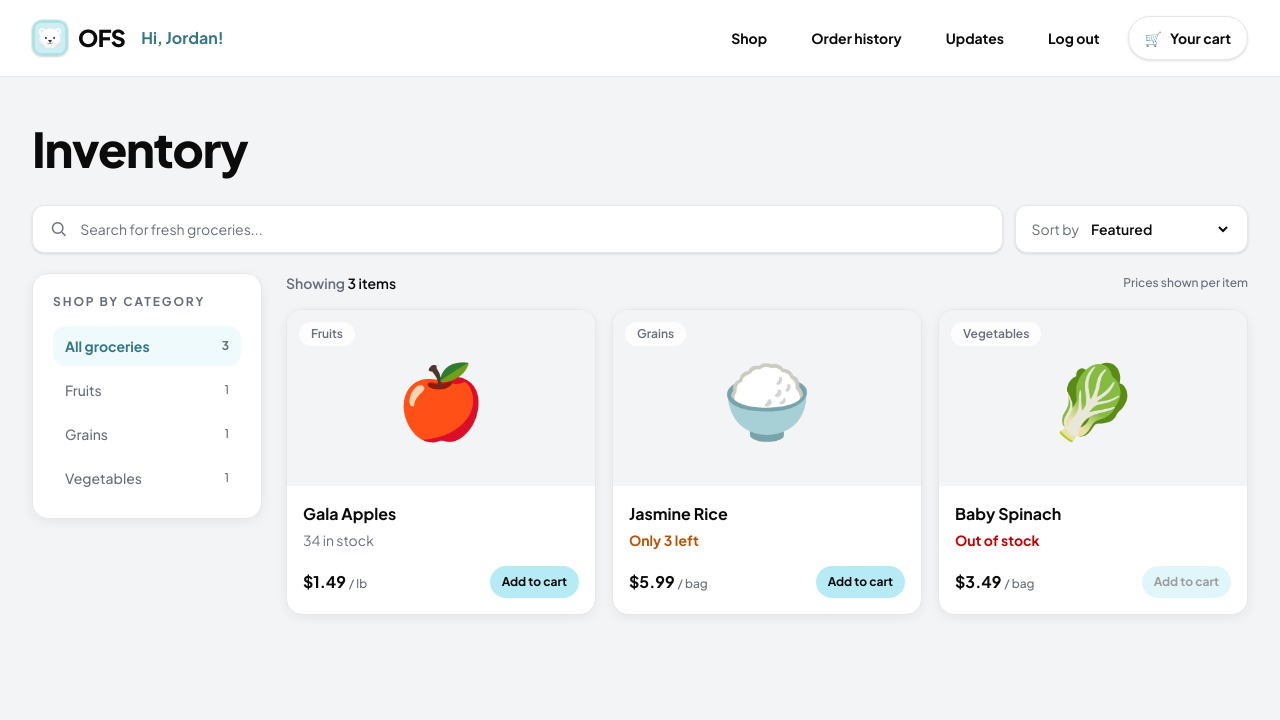
Scenario: customer product view › filters by category and search, and sorts by price
Expected: the heading "Gala Apples" is shown, [303,503,396,524]
Click the button "Grains 1".
click(147, 434)  # box [53,414,241,454]
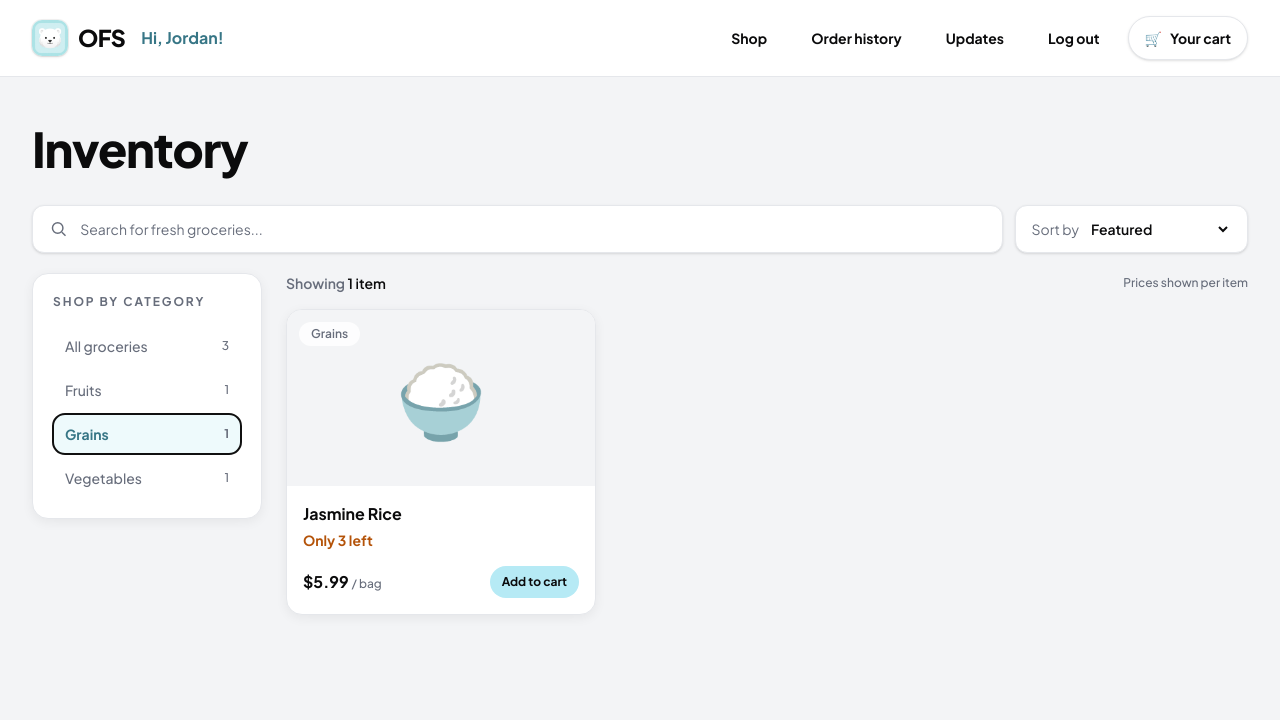
Result: the headings read "Jasmine Rice", in this order at [303,503,402,524]
Click the button "All groceries 3".
click(147, 346)  # box [53,326,241,366]
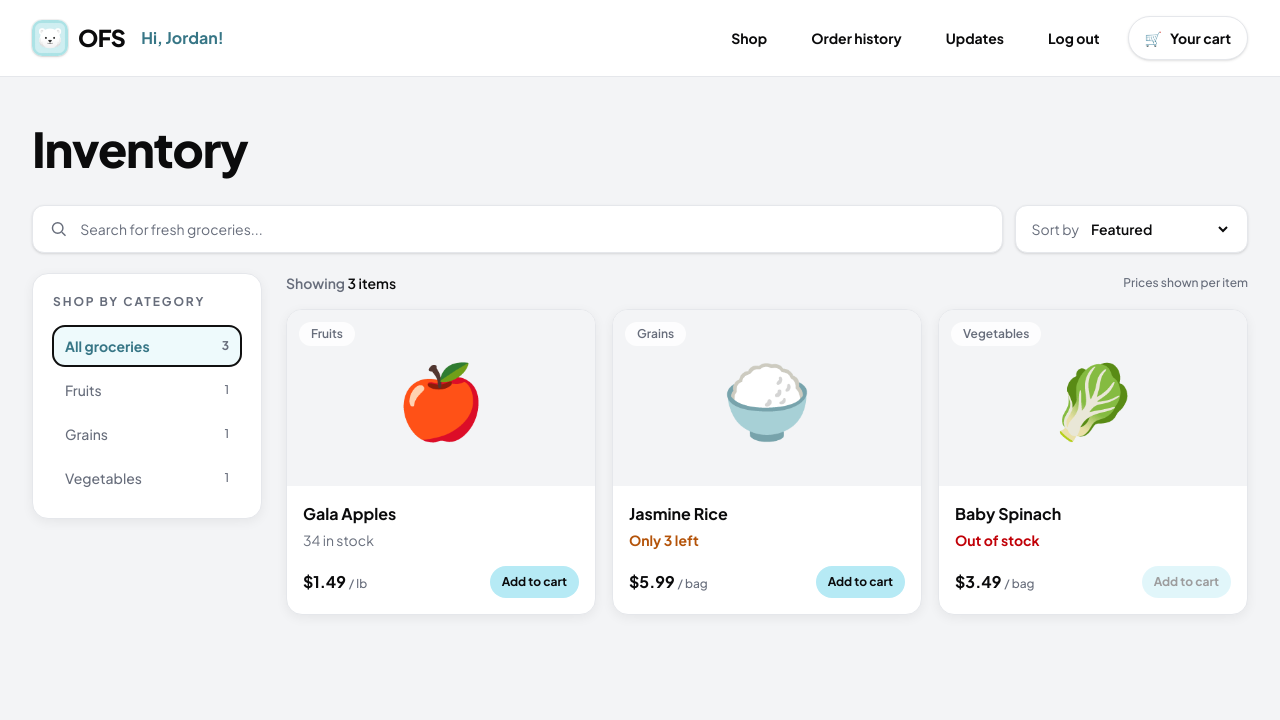
Type "spinach" into the search field named "Search groceries".
click(533, 229); type("spinach")  # box [80,219,986,239]
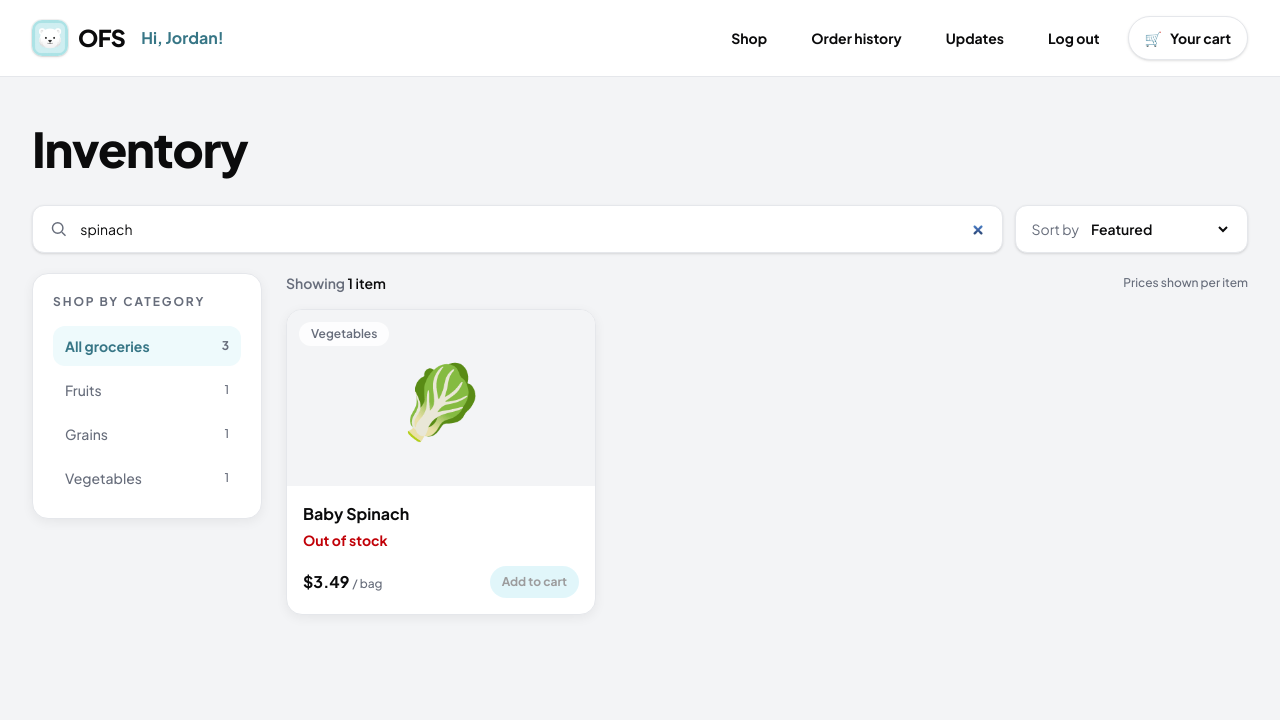
Result: the headings read "Baby Spinach", in this order at [303,503,409,524]
Clear the search field named "Search groceries" at (533,229), box [80,219,986,239]
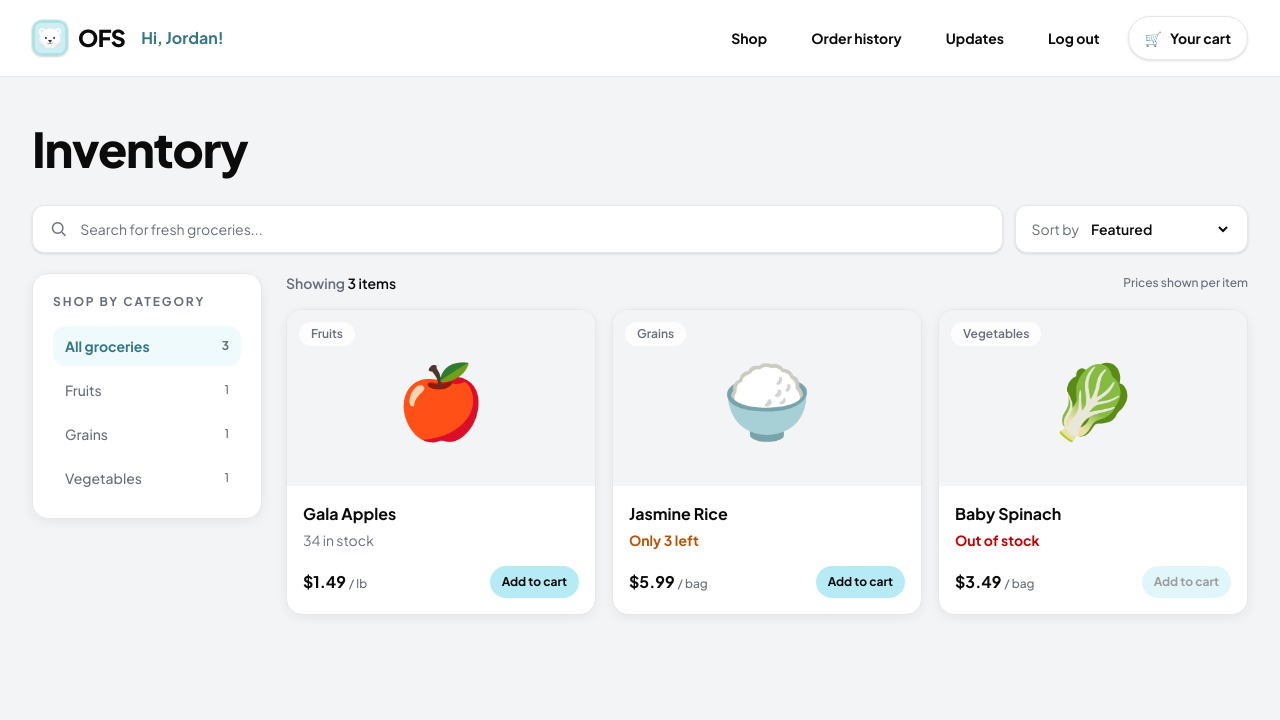
Select "Price: high to low" in the dropdown named "Sort products" at (1159,229), box [1087,219,1231,239]
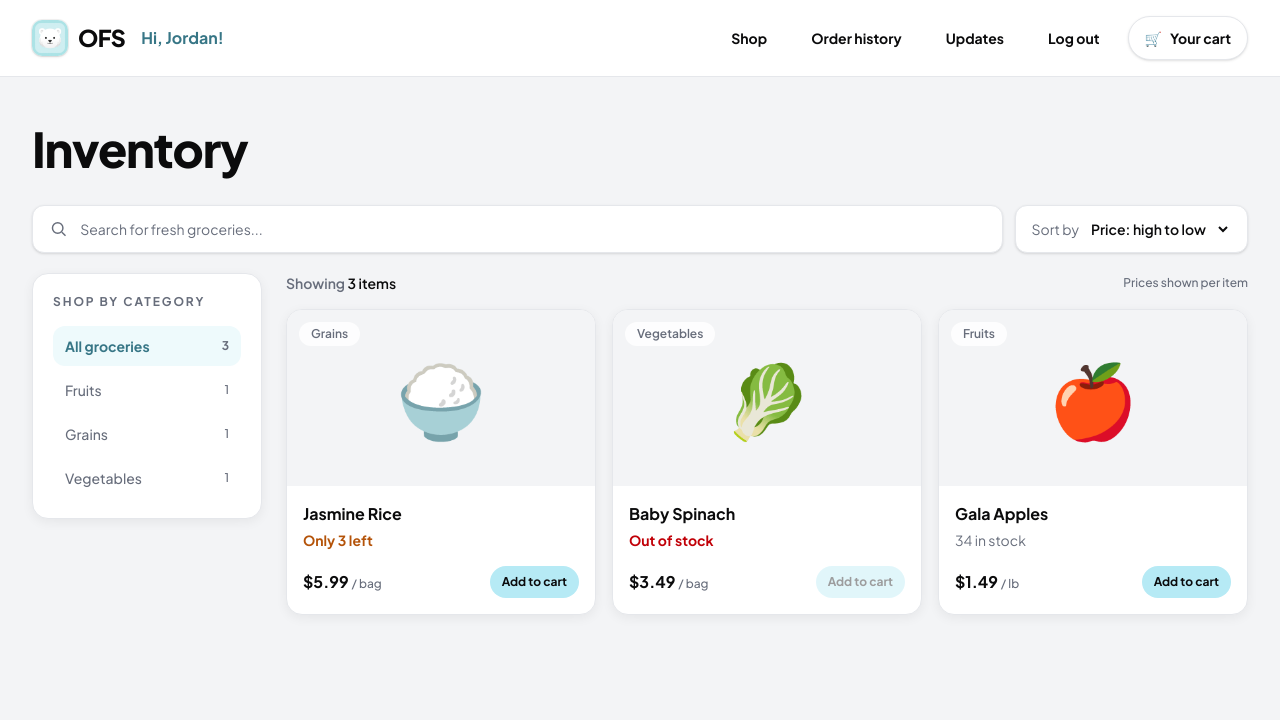
Result: the headings read "Jasmine Rice", "Baby Spinach", "Gala Apples", in this order at [303,503,402,524]; [629,503,735,524]; [955,503,1048,524]
Type "chocolate" into the search field named "Search groceries".
click(533, 229); type("chocolate")  # box [80,219,986,239]
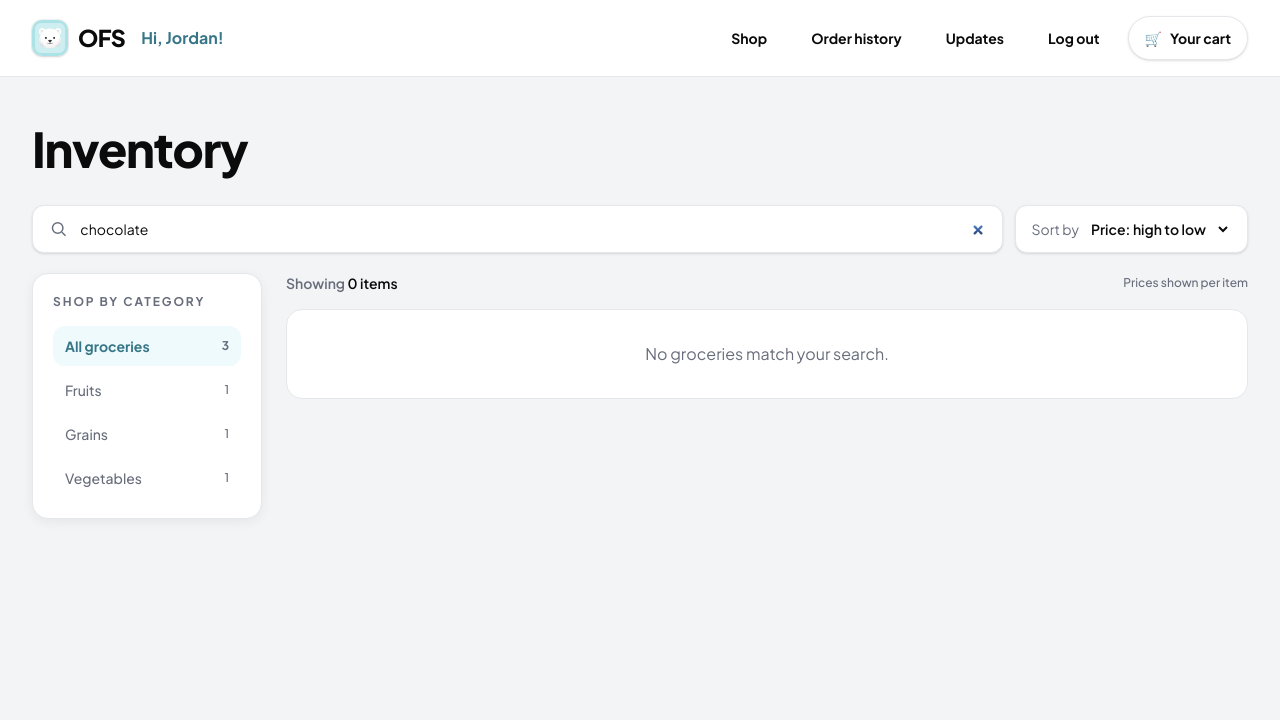
Result: the text "No groceries match your search." is shown at [286,309,1248,399]
